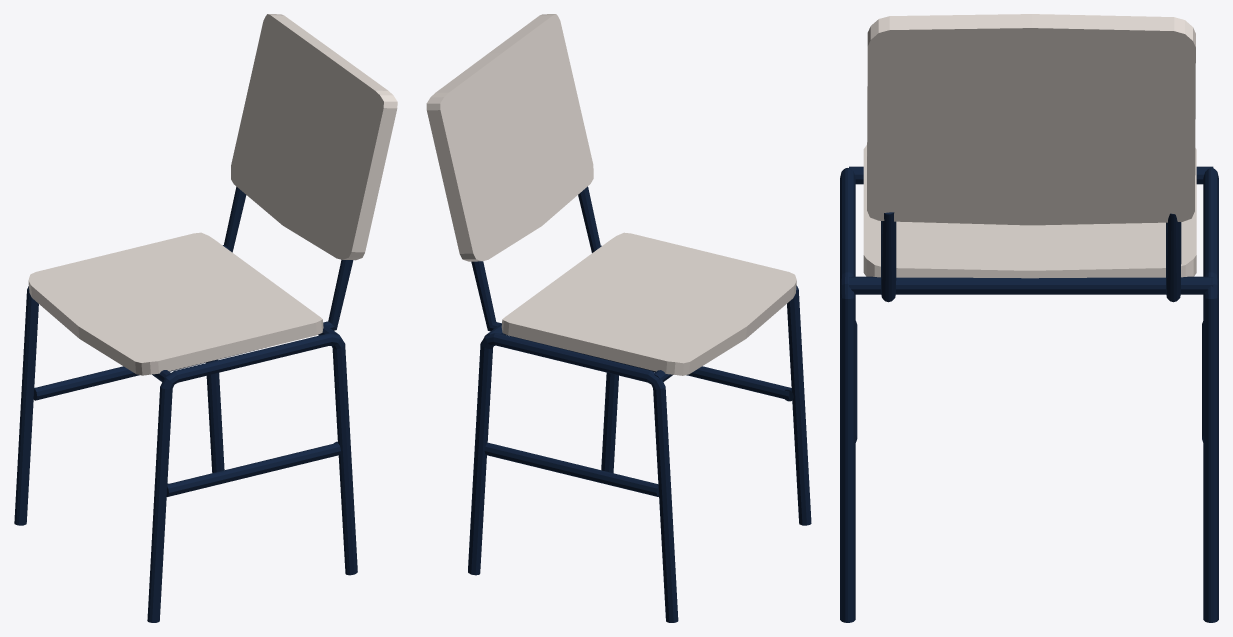
Rendered from cadeira_prof 1.fbx.
The picture shows the model from 3 angles, left to right: view 1: azimuth 30°, elevation 25°; view 2: azimuth 150°, elevation 25°; view 3: azimuth 270°, elevation 25°; orthographic projection. The views are drawn at different scales.
Visible parts, largest first — view 1: Carteira_sala.003; view 2: Carteira_sala.003; view 3: Carteira_sala.003.
Boxes of the visible parts, x1,y1,x2,y2 form: Carteira_sala.003: (14,14,397,622); Carteira_sala.003: (426,14,811,622); Carteira_sala.003: (840,14,1218,622).
Size of the model in its own units: 70.4 by 119 by 64.82.
